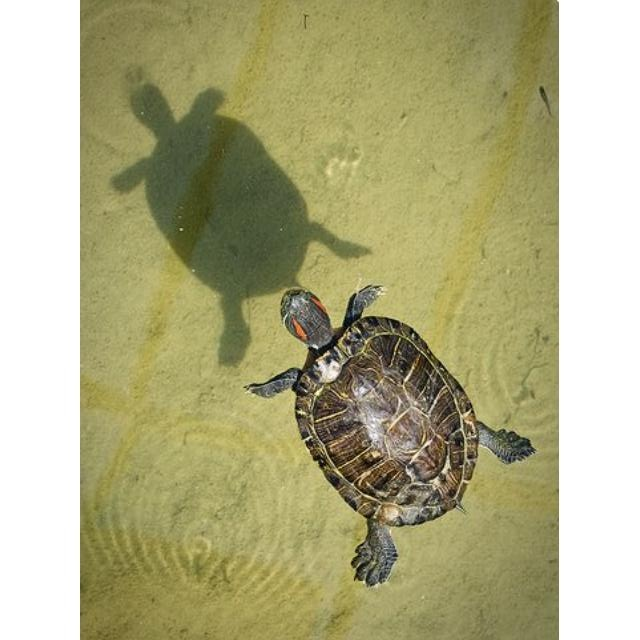turtle: (244, 285, 536, 586)
